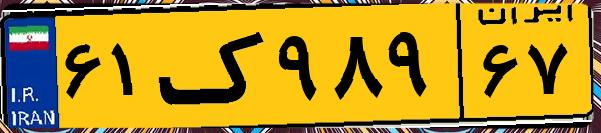1: (110, 28, 158, 98)
6: (57, 26, 110, 100), (475, 38, 525, 113)
7: (525, 38, 570, 115)
8: (330, 28, 385, 110)
9: (270, 28, 330, 110), (385, 28, 445, 110)
ک: (158, 12, 270, 120)
